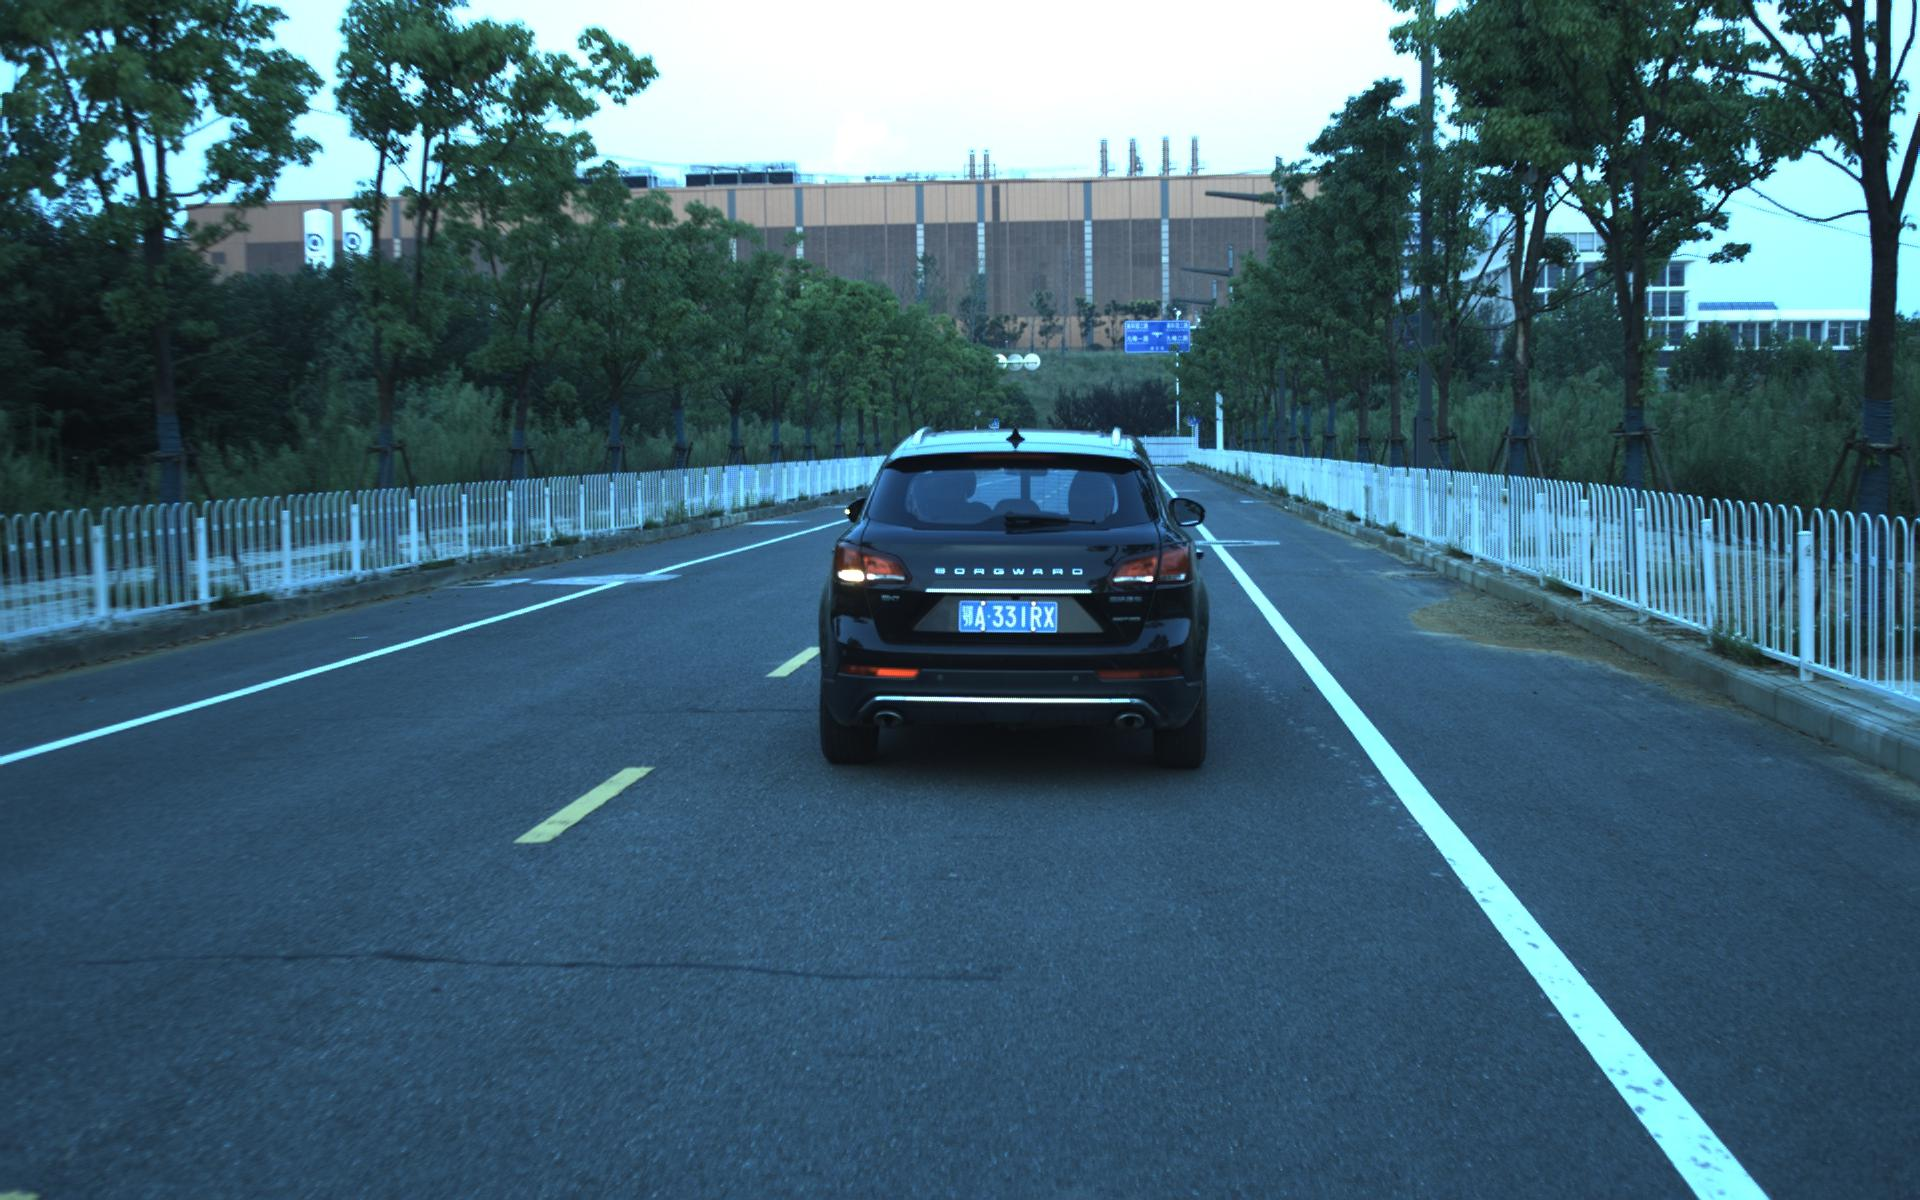Car: (809, 418, 1210, 776)
